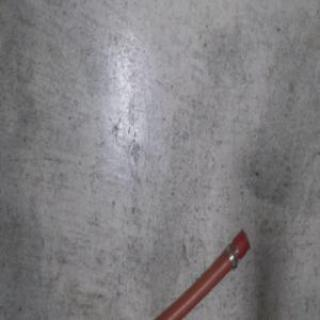Hosetrack_idkeyframe: (148, 228, 250, 319)
